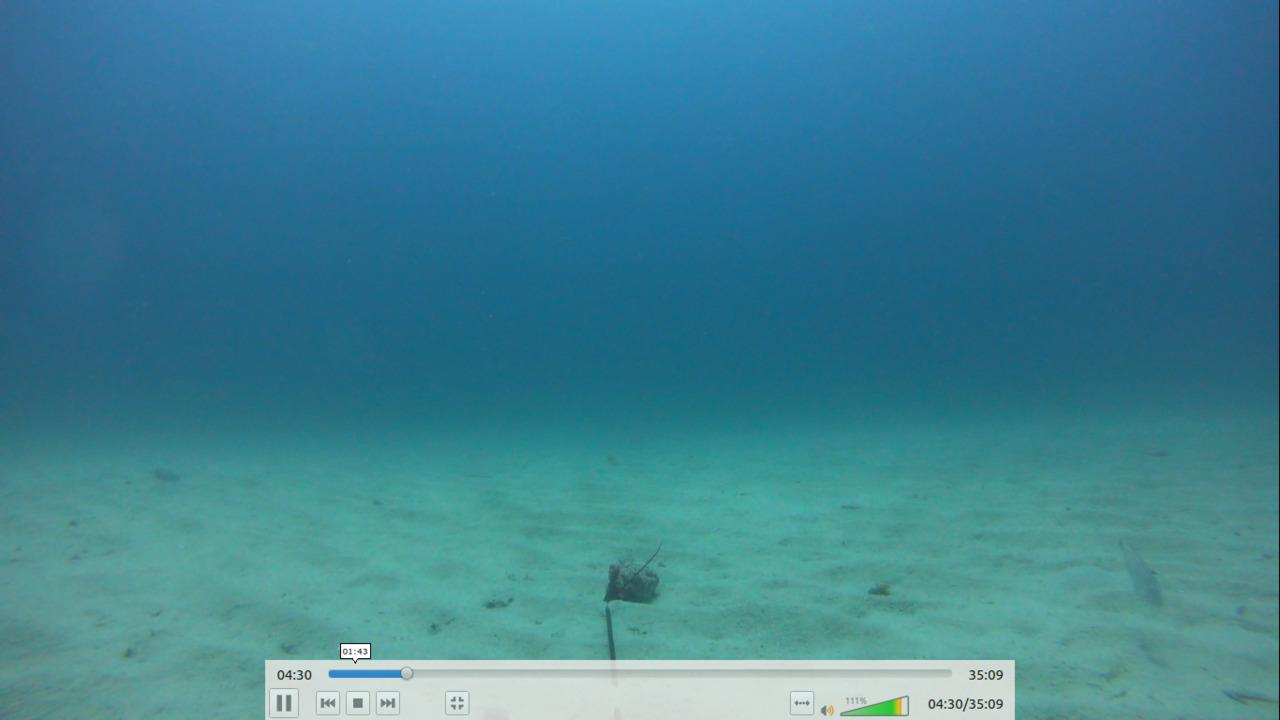raor: (1104, 525, 1171, 606)
